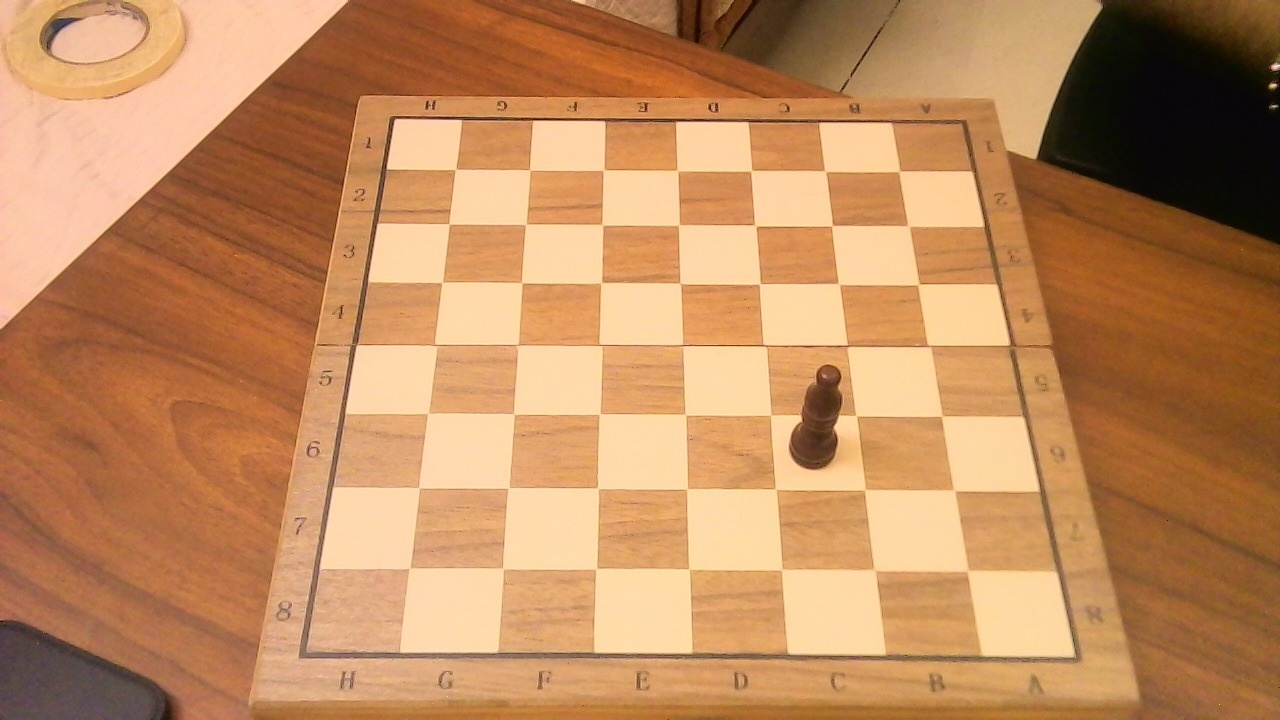b: (783, 352, 858, 476)
